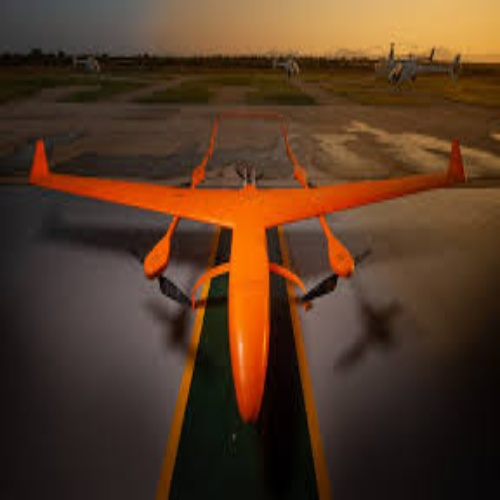uav637: (24, 115, 471, 428)
